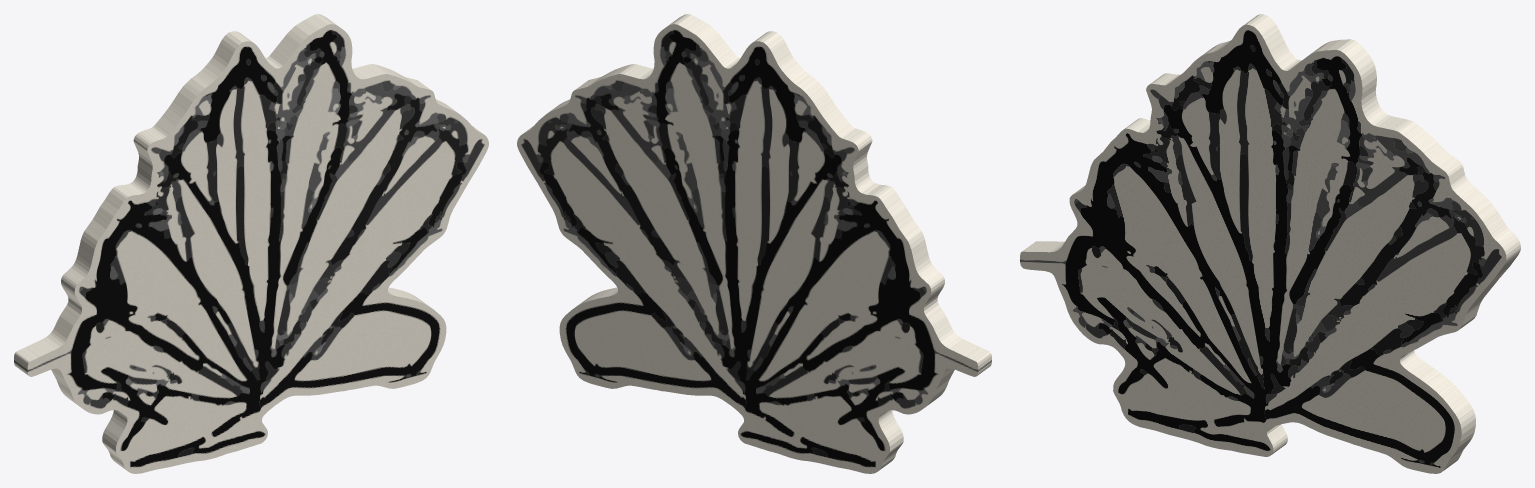
Rendered from drawing11_shell_2mm.glb.
3 views of the same model, side by side, from view 1: azimuth 30°, elevation 25°; view 2: azimuth 150°, elevation 25°; view 3: azimuth 330°, elevation 25° (orthographic). The views are drawn at different scales.
Parts seen in each view (by area): view 1: geometry_0; view 2: geometry_0; view 3: geometry_0.
Boxes of the visible parts, x1,y1,x2,y2 form: geometry_0: (14,14,488,473); geometry_0: (517,14,991,473); geometry_0: (1020,14,1520,473).
Bounding box in the file's own units: 0.0388 × 0.0329 × 0.002.
1 material, 1 textured.
